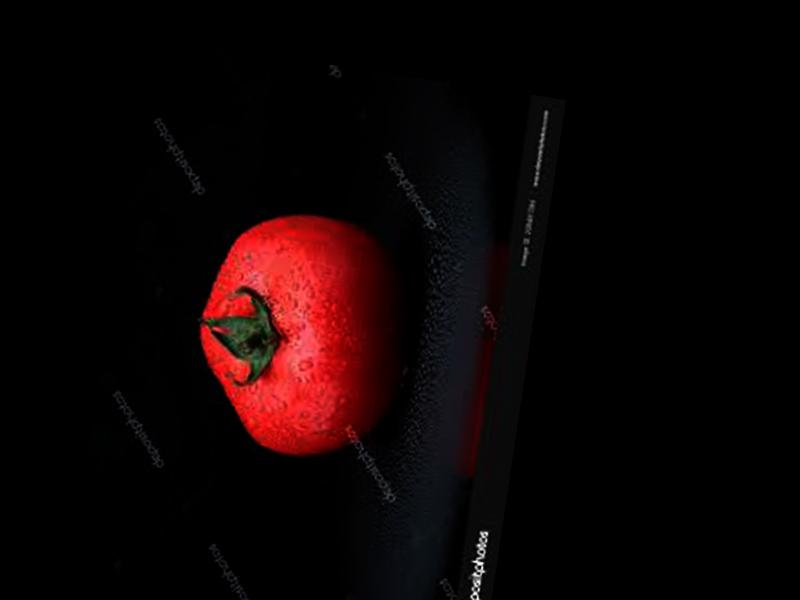Tomato: (180, 198, 425, 471)
